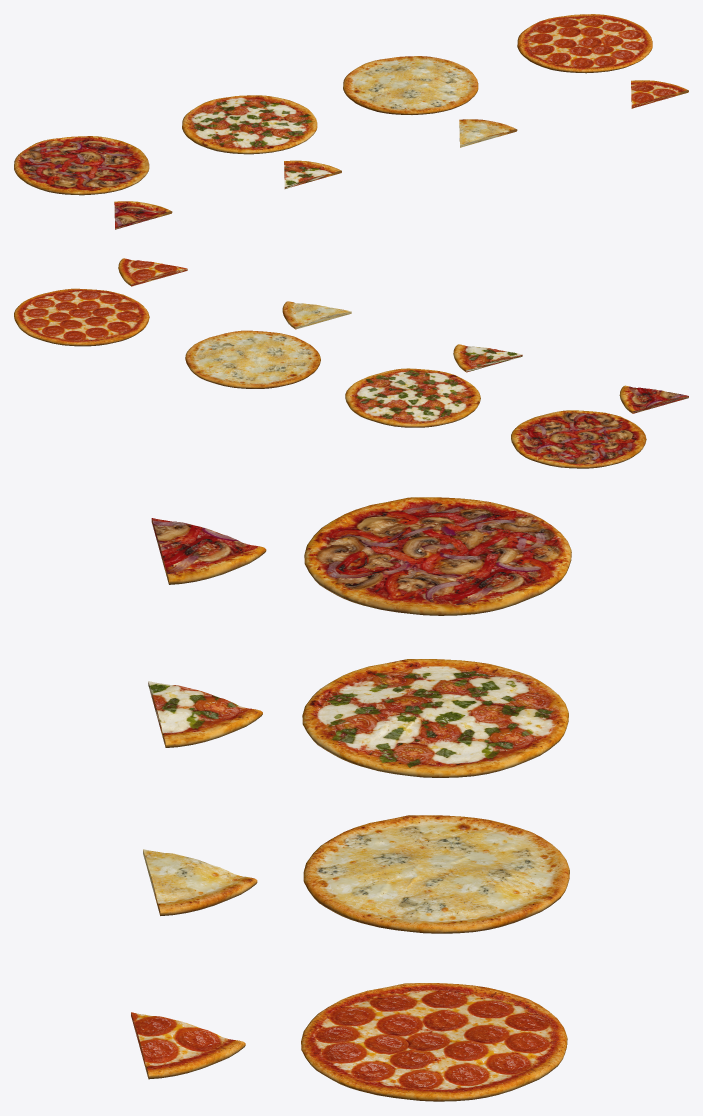
File: AllPizzas.glb
3 views of the same model, one above another, from view 1: azimuth 30°, elevation 25°; view 2: azimuth 150°, elevation 25°; view 3: azimuth 270°, elevation 25° (orthographic). The views are drawn at different scales.
Visible parts, largest first — view 1: PizzaChampiñones, PizzaPeperoni, PizzaQueso.001, PizzaMargarita.001, RebanadaQueso, RebanadaChampiñones, RebanadaPeperoni, RebanadaMargarita; view 2: PizzaMargarita.001, PizzaQueso.001, PizzaChampiñones, PizzaPeperoni, RebanadaPeperoni, RebanadaQueso, RebanadaMargarita, RebanadaChampiñones; view 3: PizzaChampiñones, PizzaPeperoni, PizzaQueso.001, PizzaMargarita.001, RebanadaChampiñones, RebanadaPeperoni, RebanadaMargarita, RebanadaQueso.
Part boxes in pixels (x1,y1,x2,y2): PizzaChampiñones: (14,136,149,195); PizzaPeperoni: (517,14,652,73); PizzaQueso.001: (343,56,478,114); PizzaMargarita.001: (182,95,317,154); RebanadaQueso: (459,119,517,147); RebanadaChampiñones: (114,201,172,229); RebanadaPeperoni: (631,80,688,108); RebanadaMargarita: (284,160,341,188); PizzaMargarita.001: (345,368,480,427); PizzaQueso.001: (185,330,320,388); PizzaChampiñones: (511,410,646,468); PizzaPeperoni: (14,288,149,346); RebanadaPeperoni: (118,258,187,286); RebanadaQueso: (282,301,351,329); RebanadaMargarita: (453,344,522,372); RebanadaChampiñones: (619,385,688,413); PizzaChampiñones: (304,497,571,615); PizzaPeperoni: (301,983,567,1101); PizzaQueso.001: (303,815,569,933); PizzaMargarita.001: (302,659,568,777); RebanadaChampiñones: (151,518,266,584); RebanadaPeperoni: (131,1012,245,1079); RebanadaMargarita: (148,681,262,747); RebanadaQueso: (143,849,257,915).
Bounding box in the file's own units: 124 × 1.57 × 38.45.
Materials: 8 (8 with a texture image).
